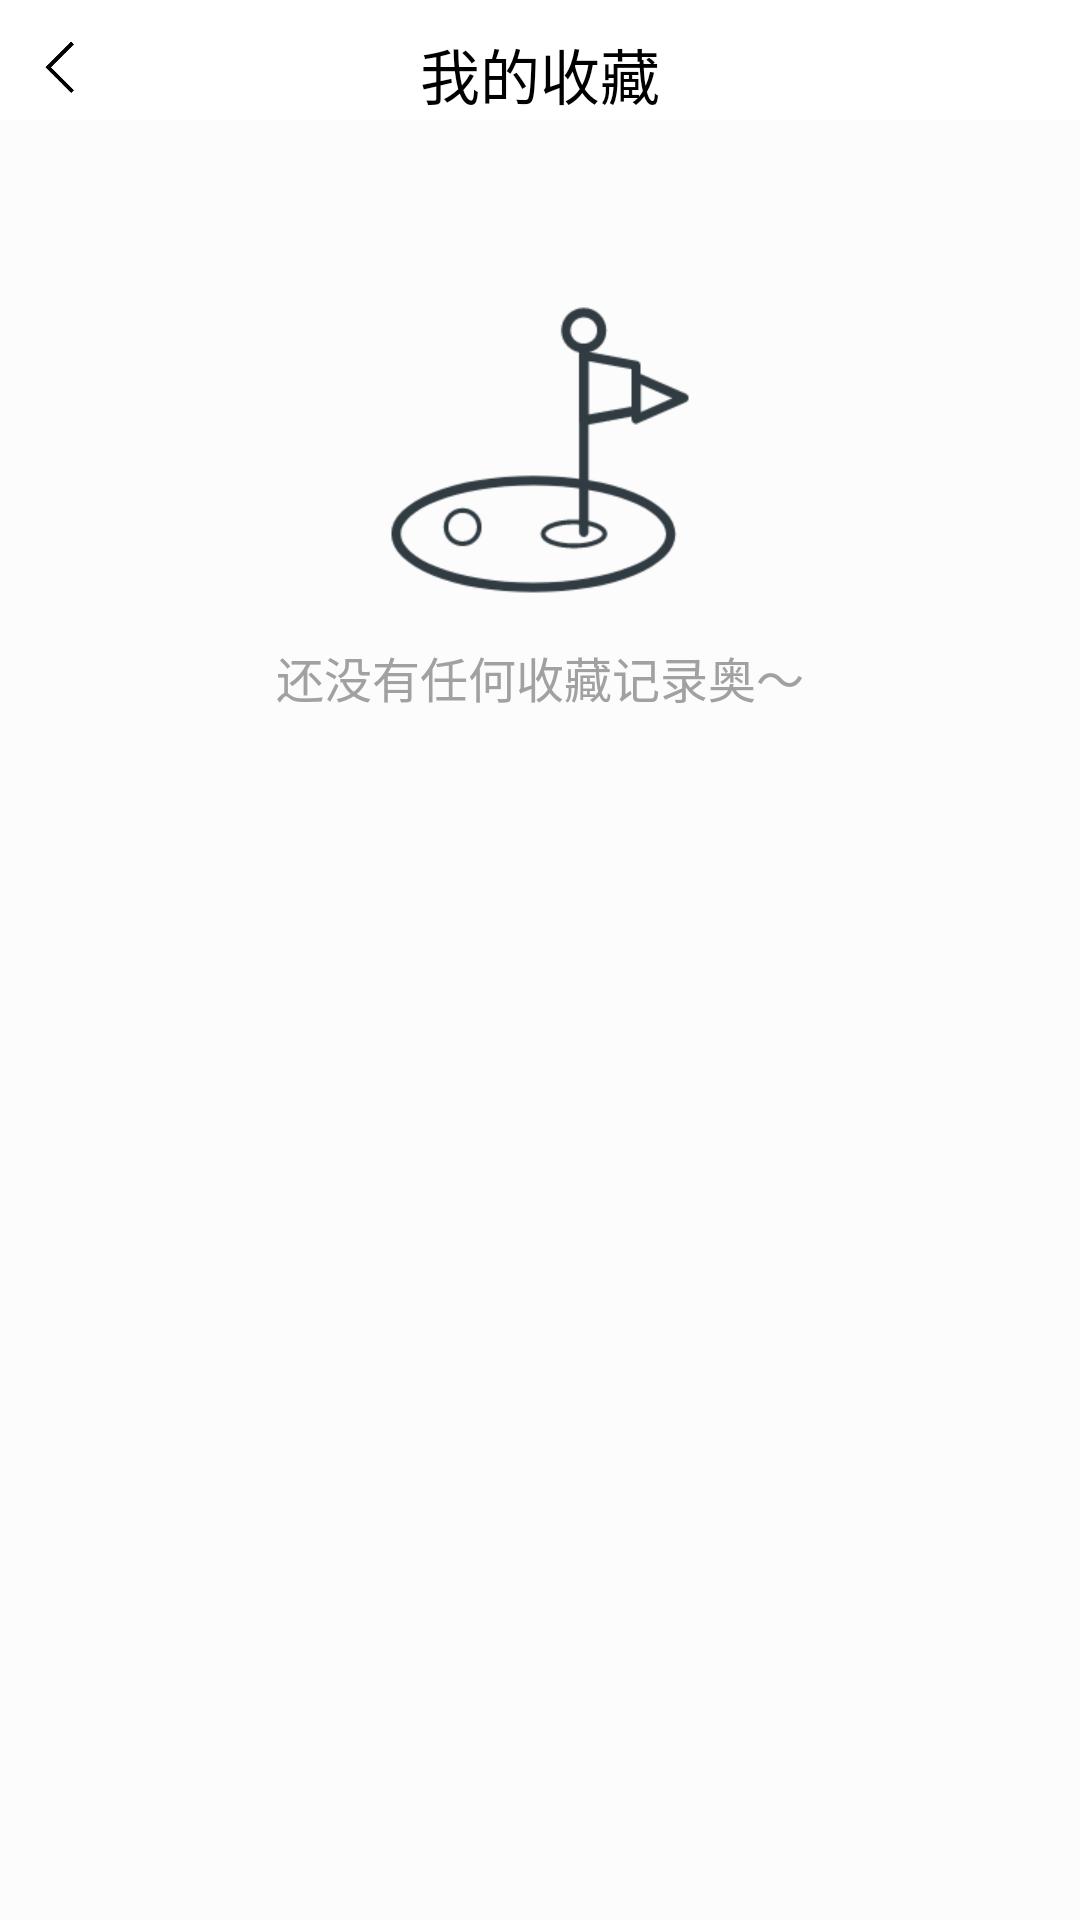

Point at icon controls on the screen. Image size 1080 x 1920, points as point (x, y).
return: point (59, 67)
